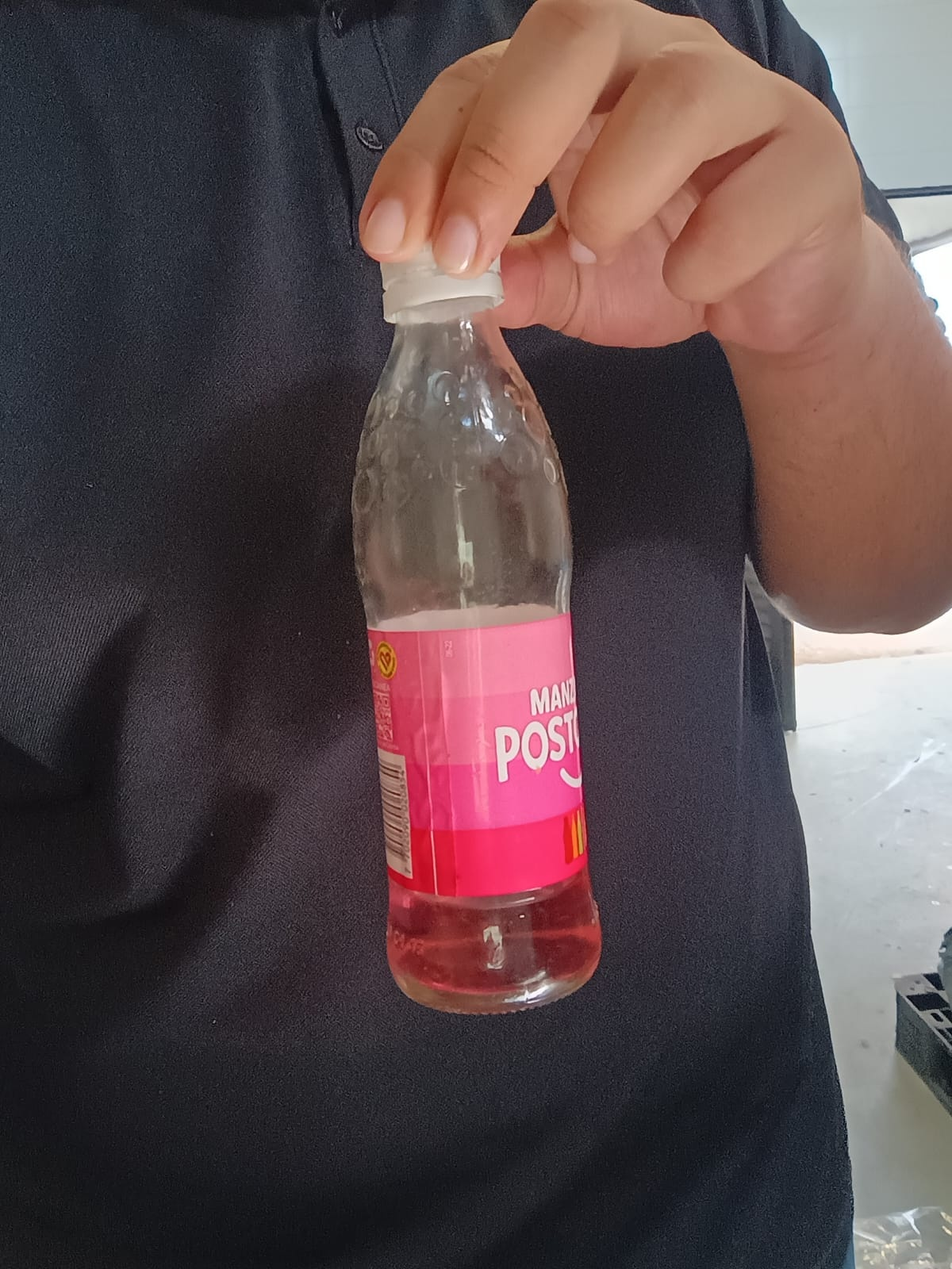Vidrio: (351, 296, 602, 1016)
